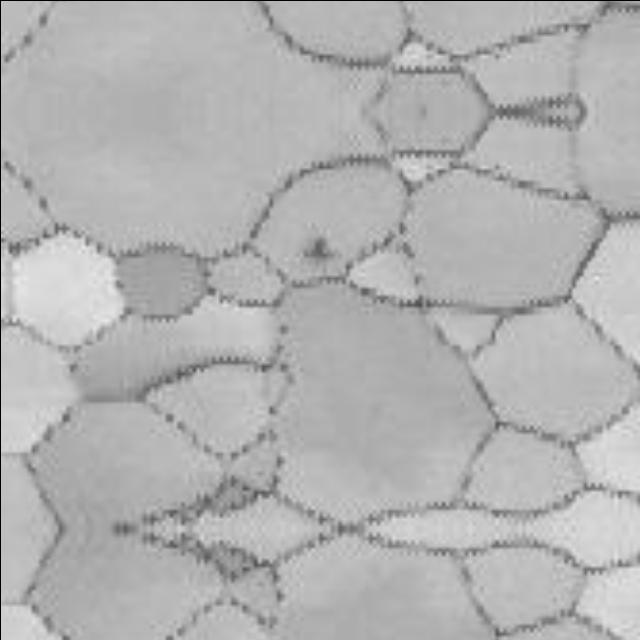good_void: (298, 233, 338, 269)
